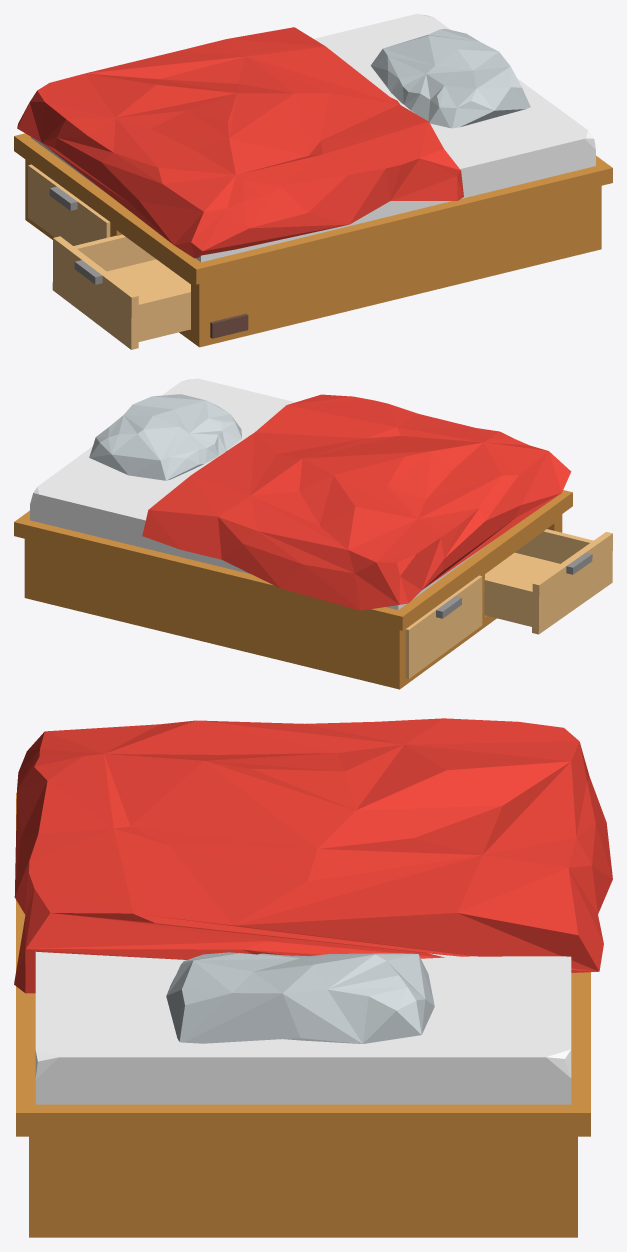
File: Bett.fbx
3 views of the same model, one above another, from view 1: azimuth 30°, elevation 25°; view 2: azimuth 150°, elevation 25°; view 3: azimuth 270°, elevation 25° (orthographic). The views are drawn at different scales.
Visible parts, largest first — view 1: mesh_650785582, mesh_873723508, mesh_226031731, mesh_1163561573, group_1793700176, mesh_1608457623, group_1022306024, mesh_1998901131; view 2: mesh_650785582, mesh_873723508, mesh_226031731, mesh_1163561573, group_1793700176, mesh_1608457623, group_1022306024; view 3: mesh_650785582, mesh_226031731, mesh_873723508, mesh_1163561573, mesh_1608457623.
Boxes of the visible parts, <box> form: mesh_650785582: <box>17,27,463,258</box>; mesh_873723508: <box>25,159,601,347</box>; mesh_226031731: <box>31,14,595,262</box>; mesh_1163561573: <box>14,133,612,284</box>; group_1793700176: <box>52,234,190,349</box>; mesh_1608457623: <box>370,28,530,128</box>; group_1022306024: <box>28,164,110,245</box>; mesh_1998901131: <box>210,313,248,338</box>; mesh_650785582: <box>142,394,571,610</box>; mesh_873723508: <box>24,514,562,689</box>; mesh_226031731: <box>30,378,489,609</box>; mesh_1163561573: <box>14,490,572,630</box>; group_1793700176: <box>484,529,612,634</box>; mesh_1608457623: <box>89,394,242,480</box>; group_1022306024: <box>405,575,482,678</box>; mesh_650785582: <box>14,718,612,993</box>; mesh_226031731: <box>35,951,571,1104</box>; mesh_873723508: <box>29,1136,577,1237</box>; mesh_1163561573: <box>16,792,590,1136</box>; mesh_1608457623: <box>166,952,434,1043</box>.
Bounding box in the file's own units: 66.5 × 19.88 × 45.84.
